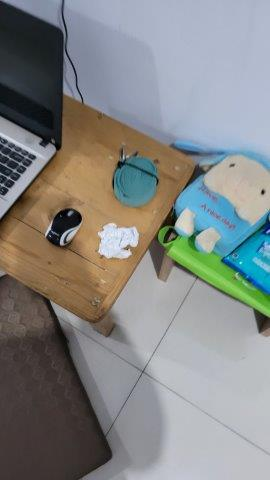kertas: (95, 224, 140, 259)
